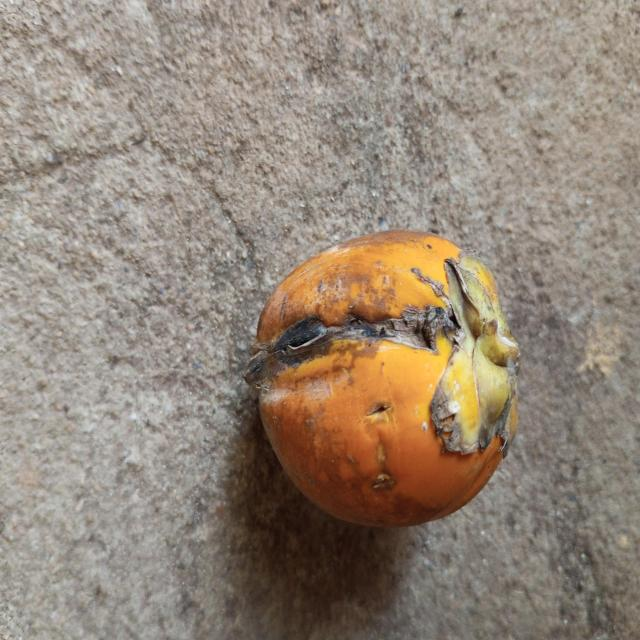damaged: (253, 230, 520, 531)
